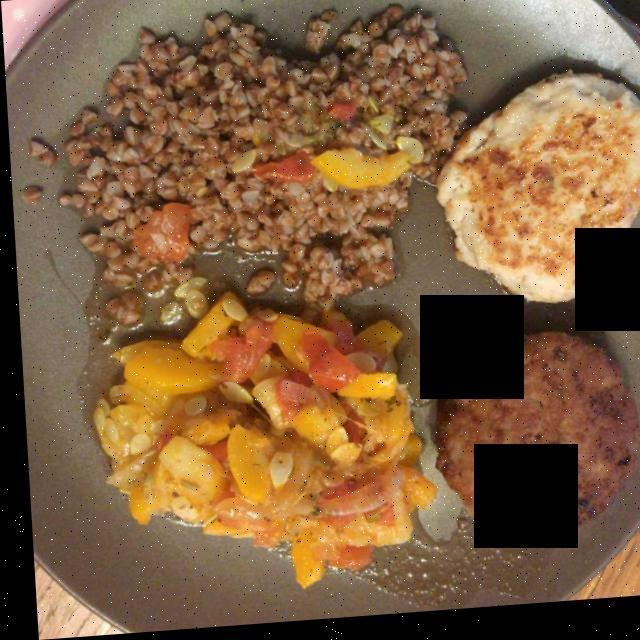chicken: (441, 79, 640, 304)
grain: (64, 12, 456, 338)
meat: (433, 337, 628, 536)
mixed-vegetables: (90, 301, 423, 575)
